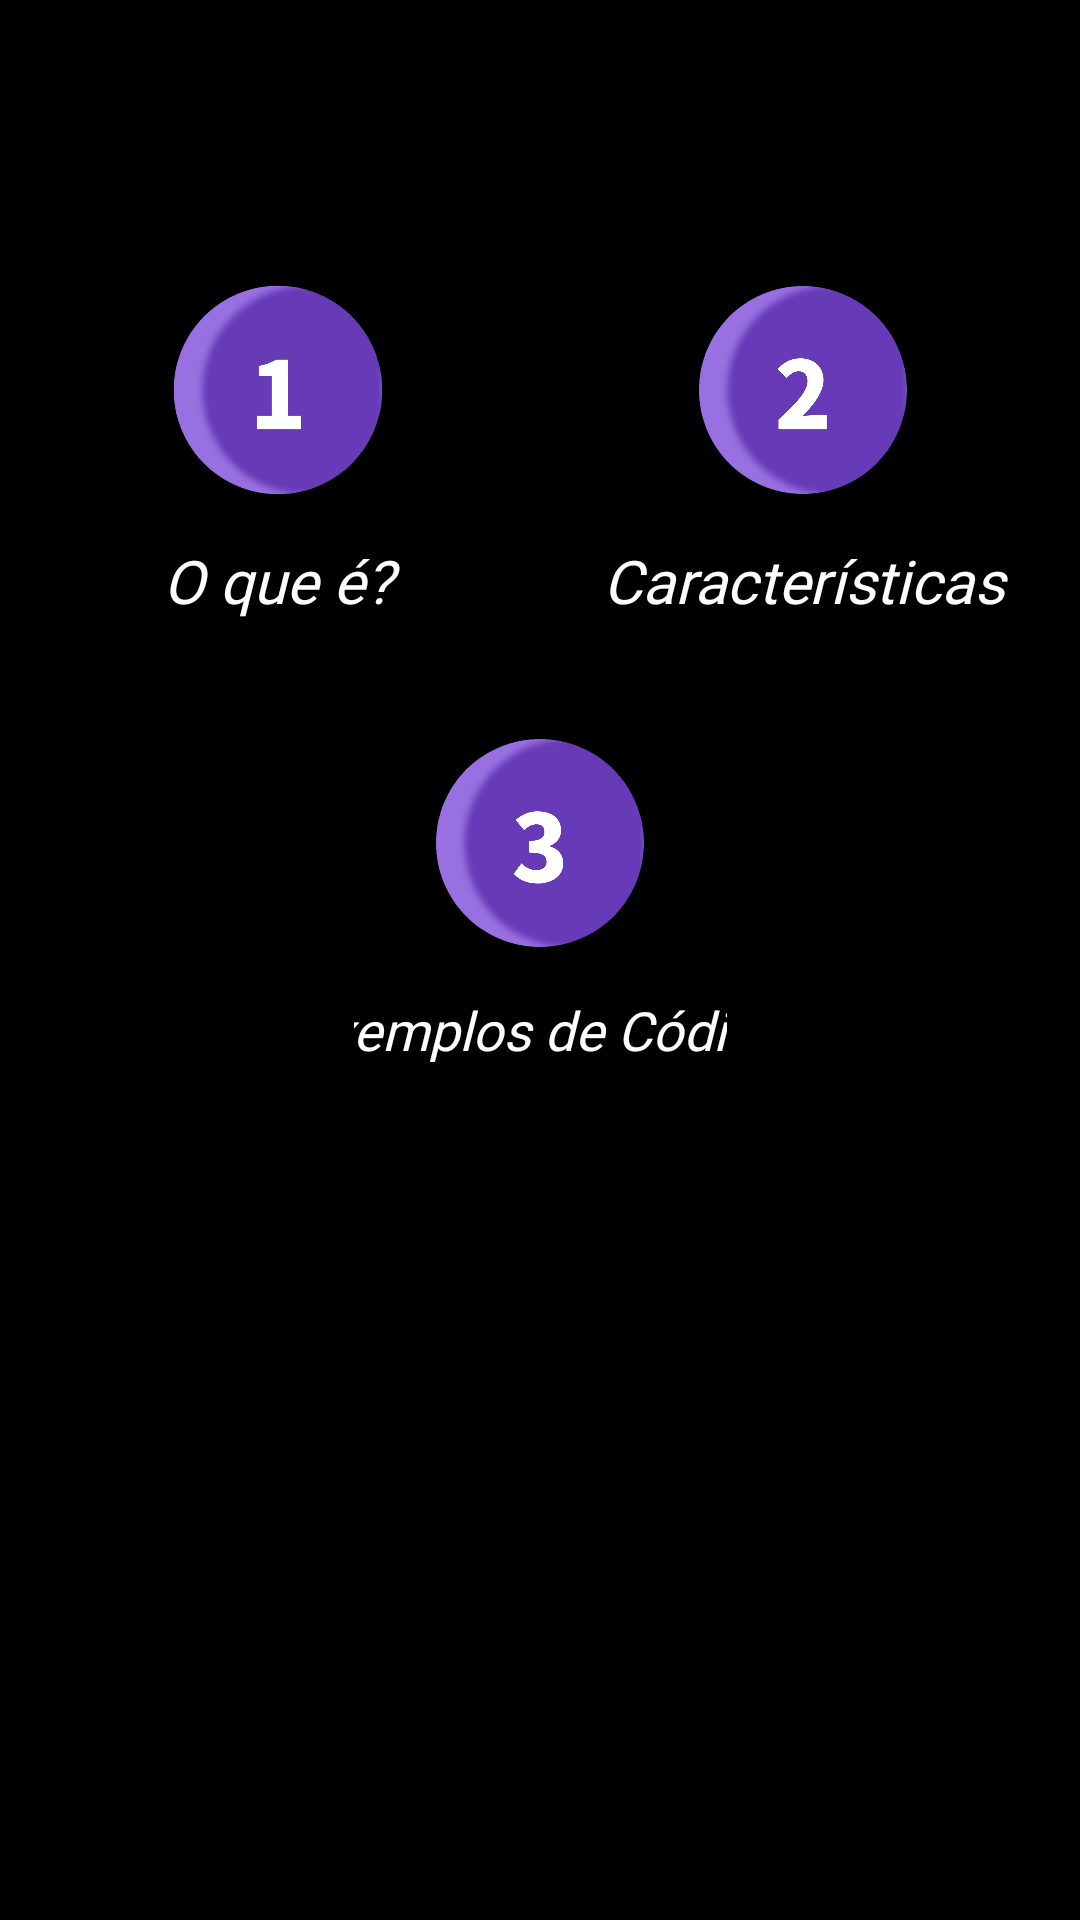

Named icons in this screenshot (1080x1920) and their bounding boxes, (x1, y1, x2, y2):
numero: (436, 739, 644, 947)
